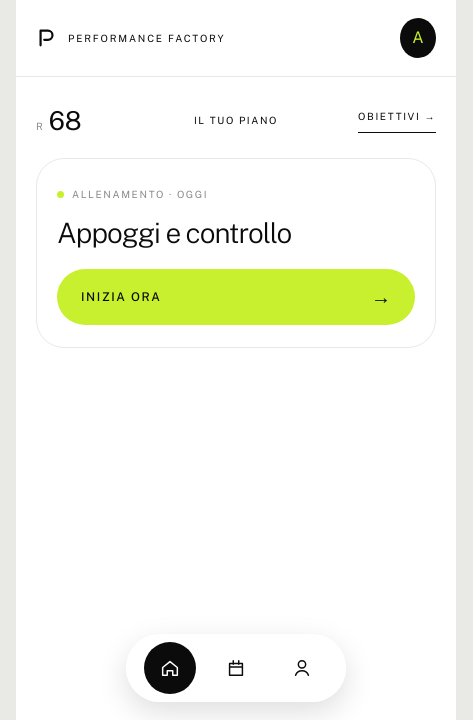
it: PF4 athlete experience › opens the account menu, with logout, from the home avatar
Click the button named "Il tuo account": coordinates (418, 38) [400,18,436,58]
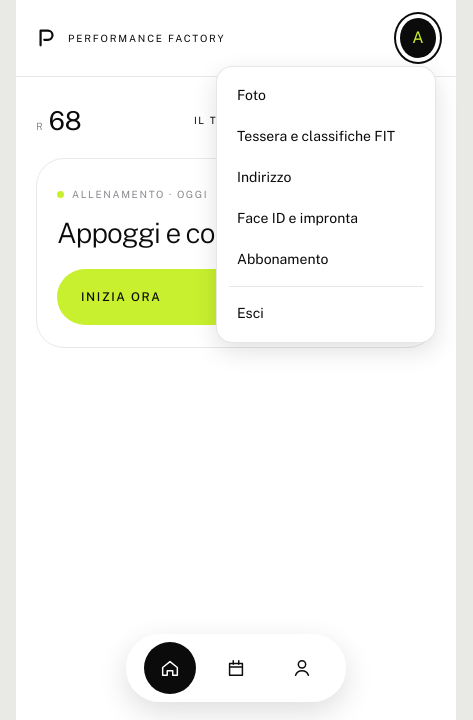
Check: the button "Esci" is shown, box [225,293,427,334]
Press Escape
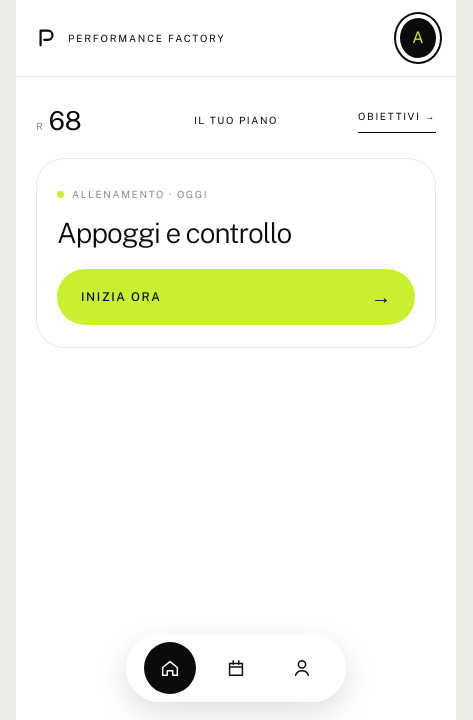
Check: the link "Foto" is gone
